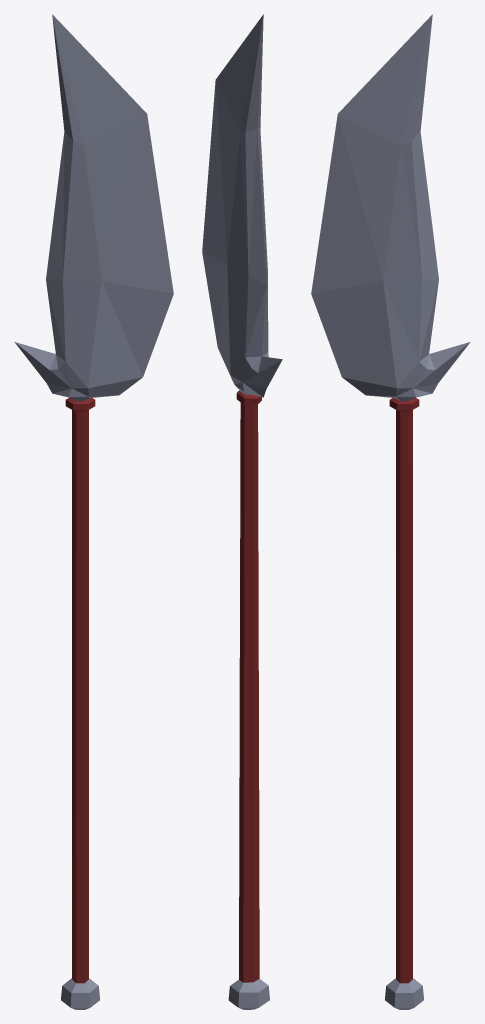
File: glaive.dae
3 views of the same model, side by side, from view 1: azimuth 90°, elevation 25°; view 2: azimuth 210°, elevation 25°; view 3: azimuth 270°, elevation 25° (orthographic).
Visible parts, largest first — view 1: glaive; view 2: glaive; view 3: glaive.
Part boxes in pixels (box(x1,y1,x2,y2)): glaive: box(14, 14, 173, 1009); glaive: box(202, 14, 282, 1009); glaive: box(311, 14, 470, 1009).
Size of the model in its own units: 0.0516 by 0.2278 by 1.56.
